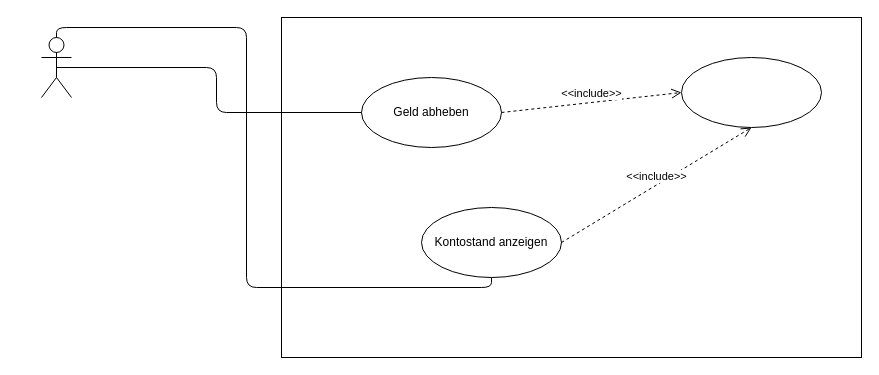
Image size: 879x375. Some labels were removed from this diagram. Each missing label, with the centre of its shape:
"Authentifizieren" goes at point 751,92.
"Privater Kunde" goes at point 56,67.
